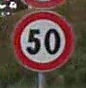limite 50: (11, 10, 73, 73)
